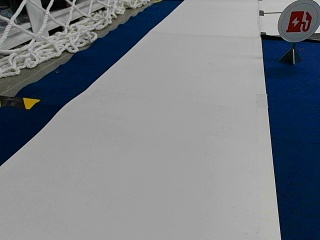battery: (277, 0, 319, 42)
